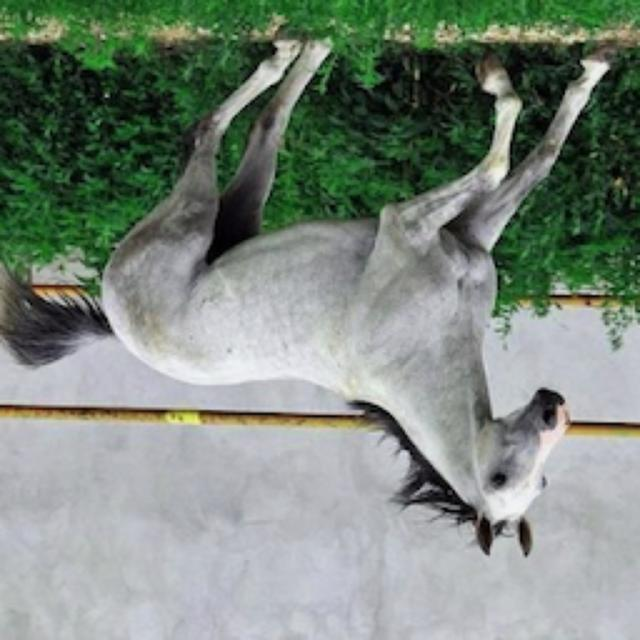Horse: (2, 27, 626, 565)
